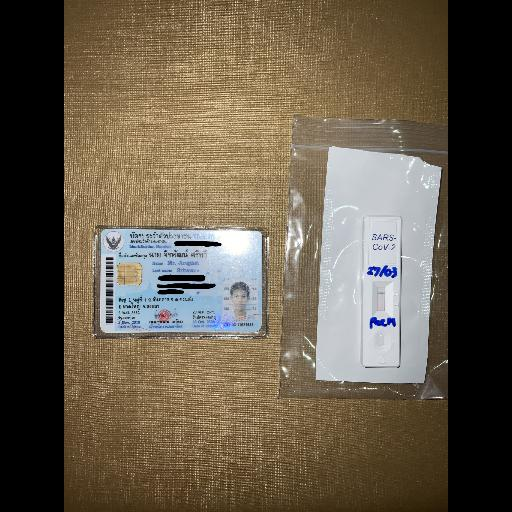Neg: (364, 218, 398, 366)
